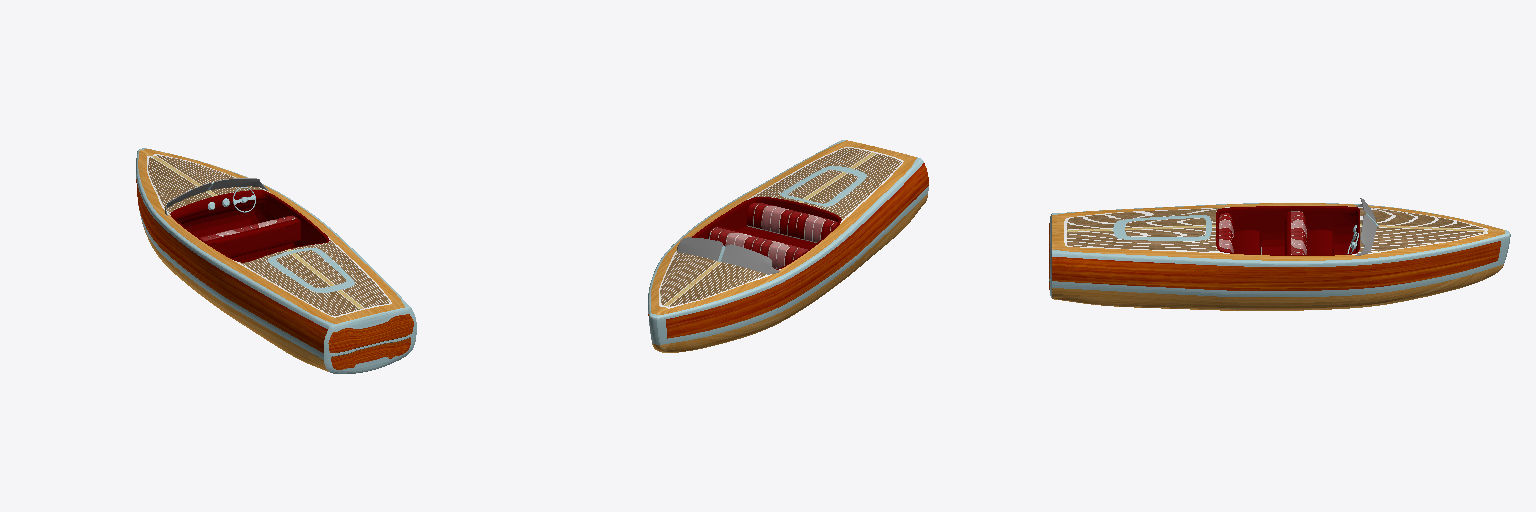
3 views of the same model, side by side, from view 1: azimuth 30°, elevation 25°; view 2: azimuth 150°, elevation 25°; view 3: azimuth 270°, elevation 25° (orthographic).
Visible parts, largest first — view 1: 10634_SpeedBoat_v01; view 2: 10634_SpeedBoat_v01; view 3: 10634_SpeedBoat_v01.
Boxes of the visible parts, <box> form: 10634_SpeedBoat_v01: <box>136,148,416,373</box>; 10634_SpeedBoat_v01: <box>648,140,928,352</box>; 10634_SpeedBoat_v01: <box>1049,198,1510,310</box>.
Bounding box in the file's own units: 6.97 × 4.63 × 22.12.
3 materials, 1 textured.